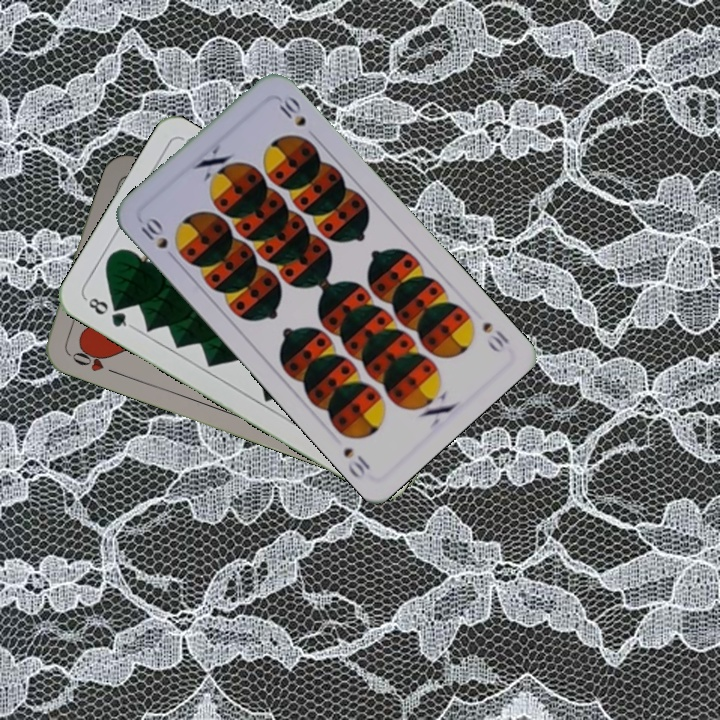G8: (81, 293, 135, 330)
HO: (63, 341, 120, 377)
S10: (134, 213, 171, 252), (478, 318, 512, 355)
